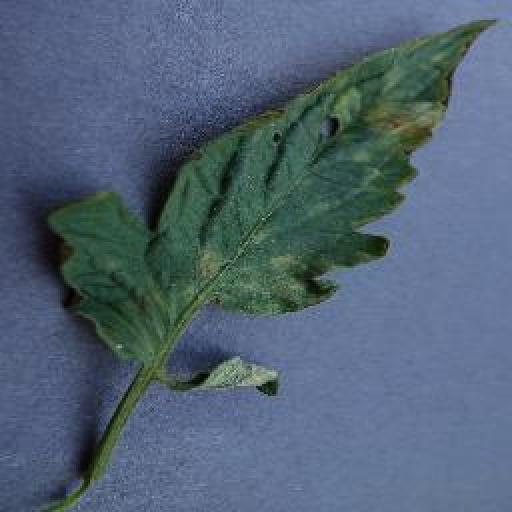disease_tomato: (52, 13, 500, 367)
